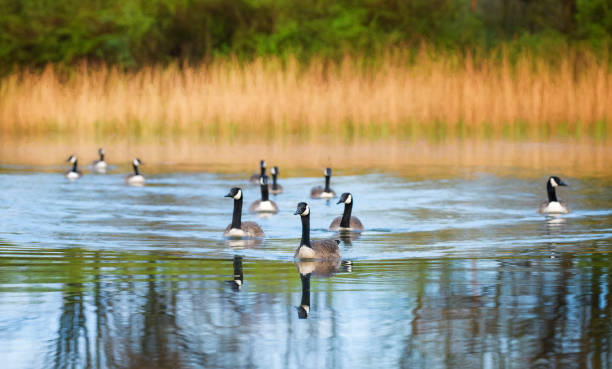goose: (284, 199, 344, 276), (215, 185, 264, 241), (534, 171, 575, 219), (327, 191, 364, 232), (120, 153, 159, 187), (307, 165, 338, 201), (252, 175, 279, 212), (58, 152, 87, 182), (91, 144, 112, 176), (267, 164, 289, 193), (248, 157, 269, 183)
